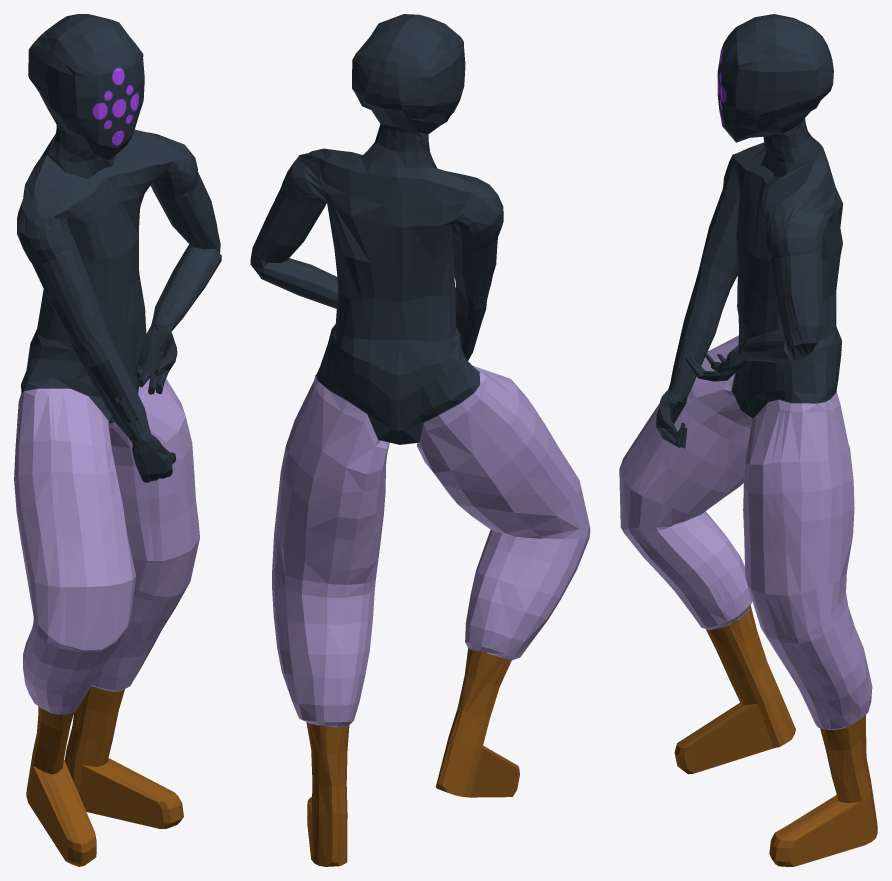
File: Oracle_WR_000006.obj
3 renders of one model, left to right at view 1: azimuth 30°, elevation 25°; view 2: azimuth 150°, elevation 25°; view 3: azimuth 270°, elevation 25°, orthographic. The views are drawn at different scales.
Parts seen in each view (by area): view 1: Cube; view 2: Cube; view 3: Cube.
Part boxes in pixels (left/top/right/bottom): Cube: left=14, top=14, right=221, bottom=866; Cube: left=250, top=14, right=590, bottom=866; Cube: left=619, top=14, right=877, bottom=866.
Size of the model in its own units: 1.26 by 3.87 by 1.13.
